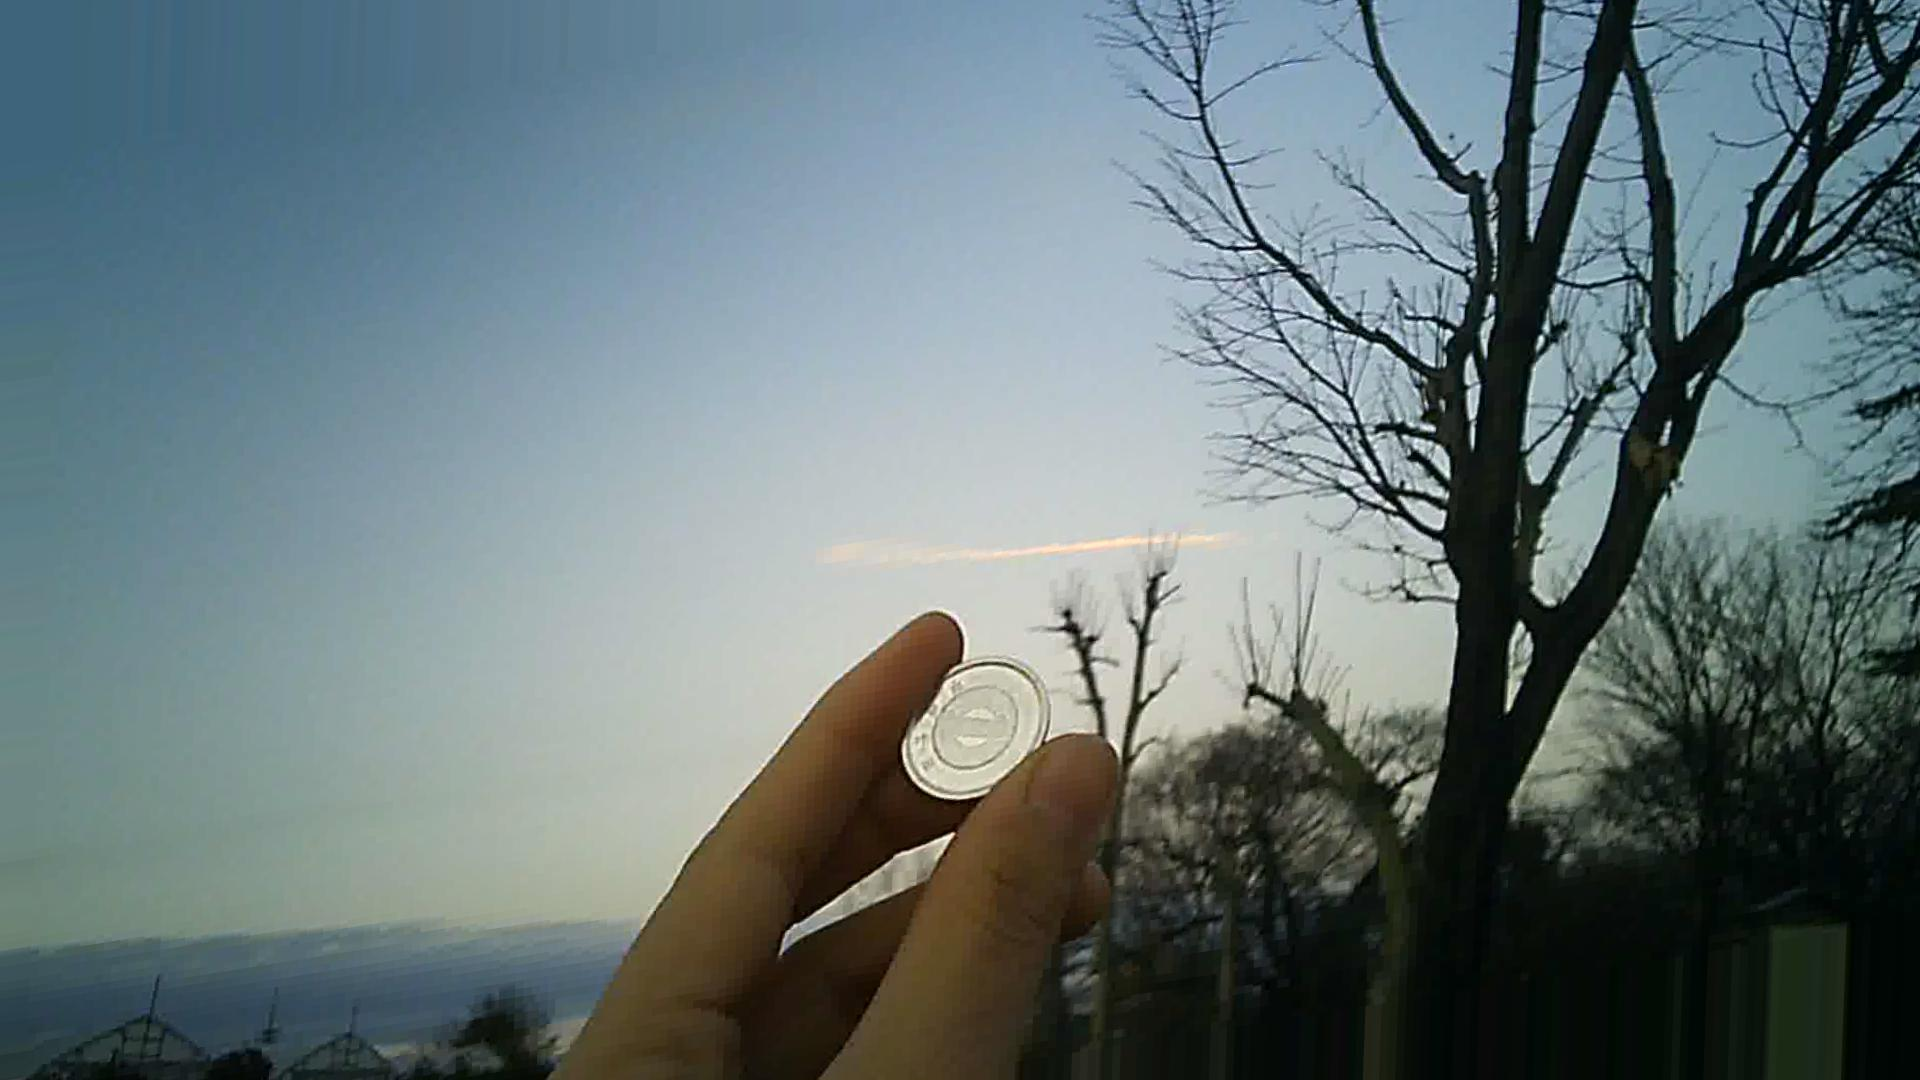1 Yen: (886, 650, 1052, 802)
